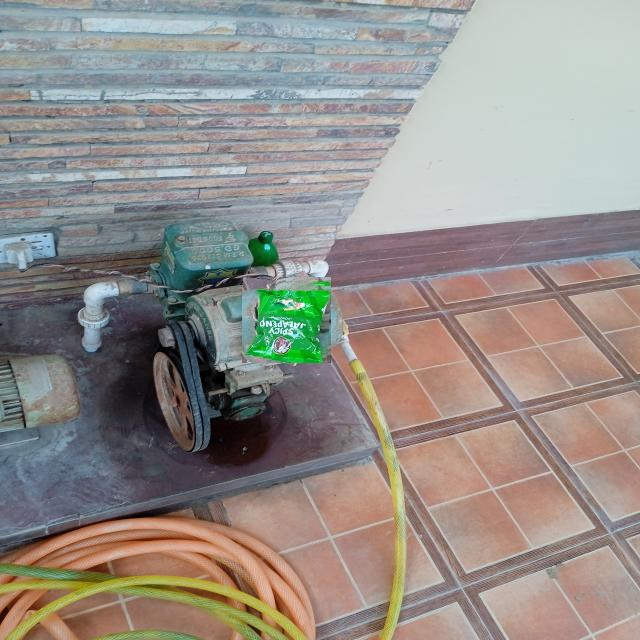Plastic: (242, 276, 331, 363)
